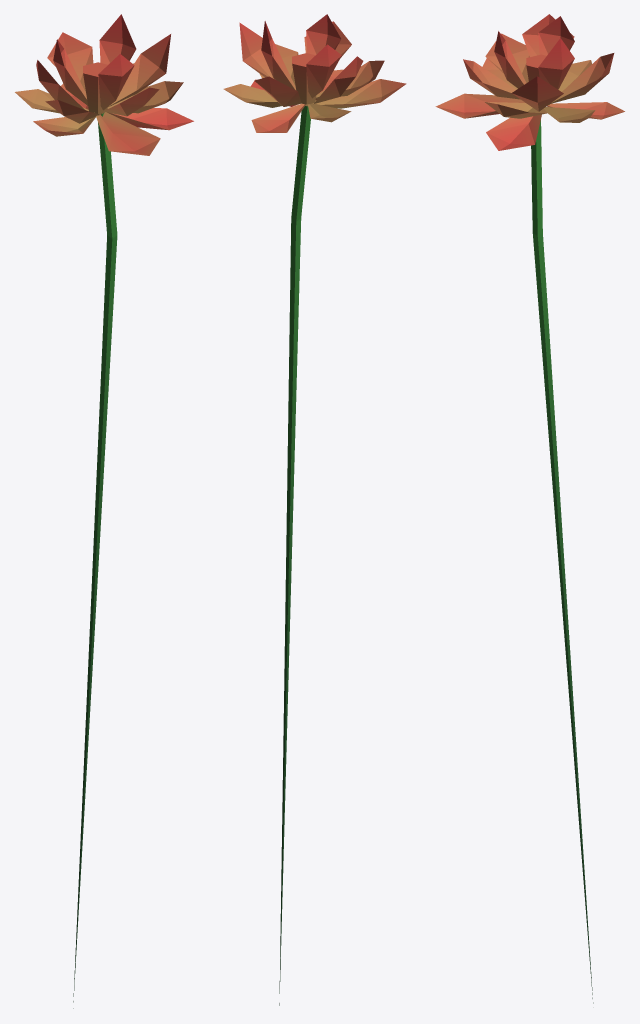
Rendered from ZLP_Grass_E_11.FBX.
3 renders of one model, left to right at view 1: azimuth 30°, elevation 25°; view 2: azimuth 150°, elevation 25°; view 3: azimuth 270°, elevation 25°, orthographic. The views are drawn at different scales.
Visible parts, largest first — view 1: ZLP_Grass_E_11; view 2: ZLP_Grass_E_11; view 3: ZLP_Grass_E_11.
Boxes of the visible parts, x1,y1,x2,y2 form: ZLP_Grass_E_11: (15,14,193,1008); ZLP_Grass_E_11: (223,14,406,1005); ZLP_Grass_E_11: (435,14,624,1003).
Bounding box in the file's own units: 38.77 × 242 × 42.24.
